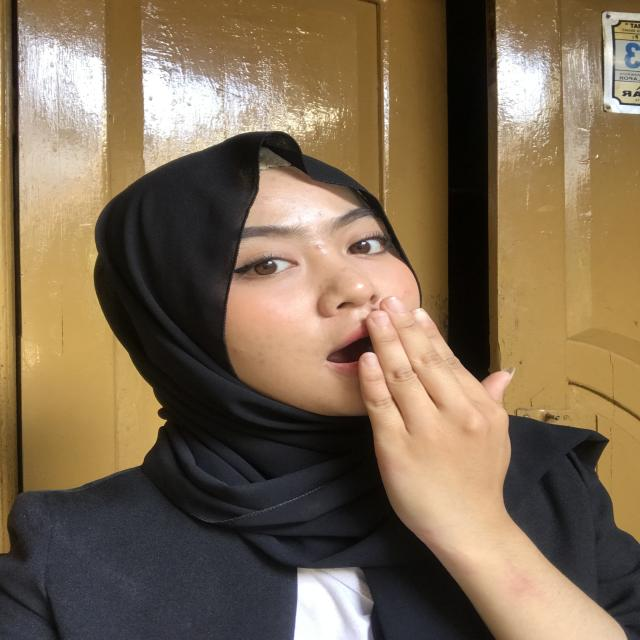ngantuk: (303, 282, 552, 570)
